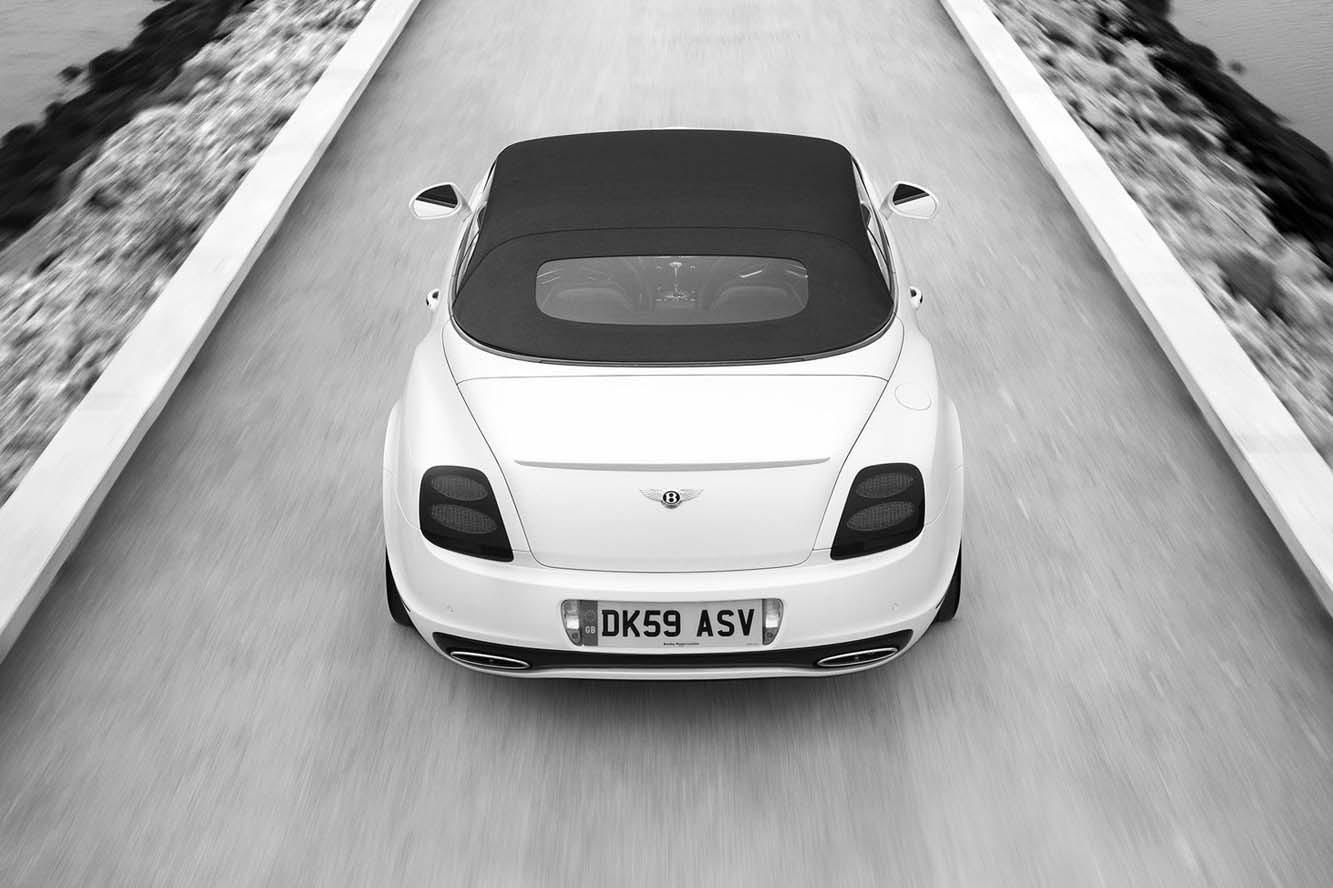car: (378, 125, 973, 689)
